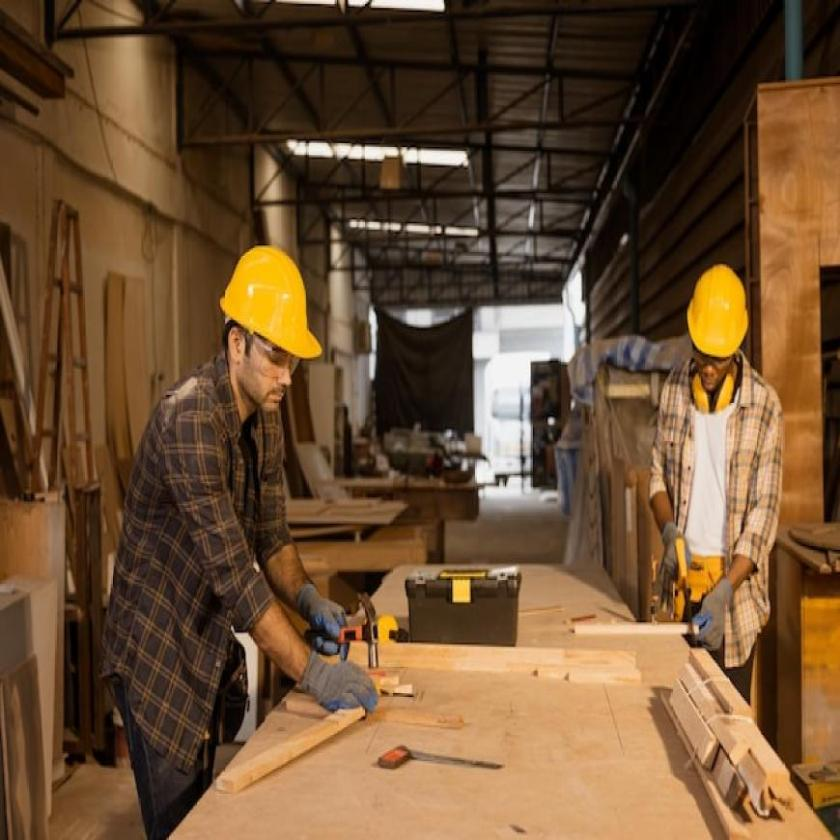Con_casco: (223, 243, 325, 416), (683, 260, 754, 394)
